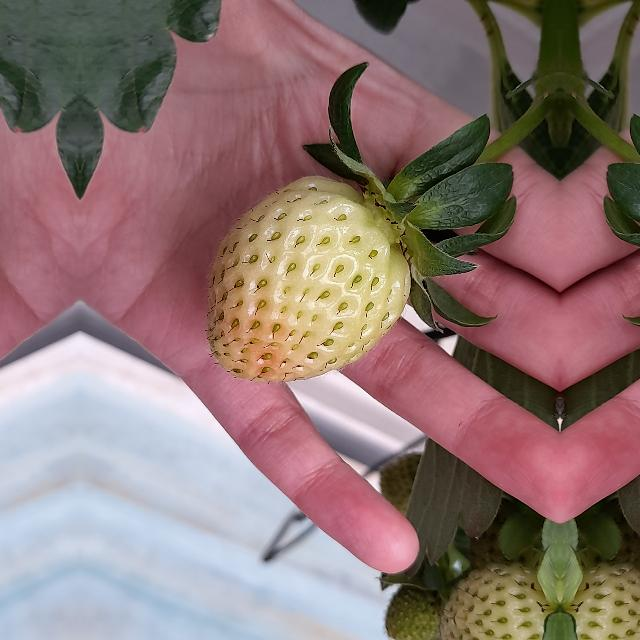Health_25: (445, 549, 559, 639), (561, 549, 640, 639), (384, 575, 451, 639)
Health_50: (206, 175, 410, 381)
